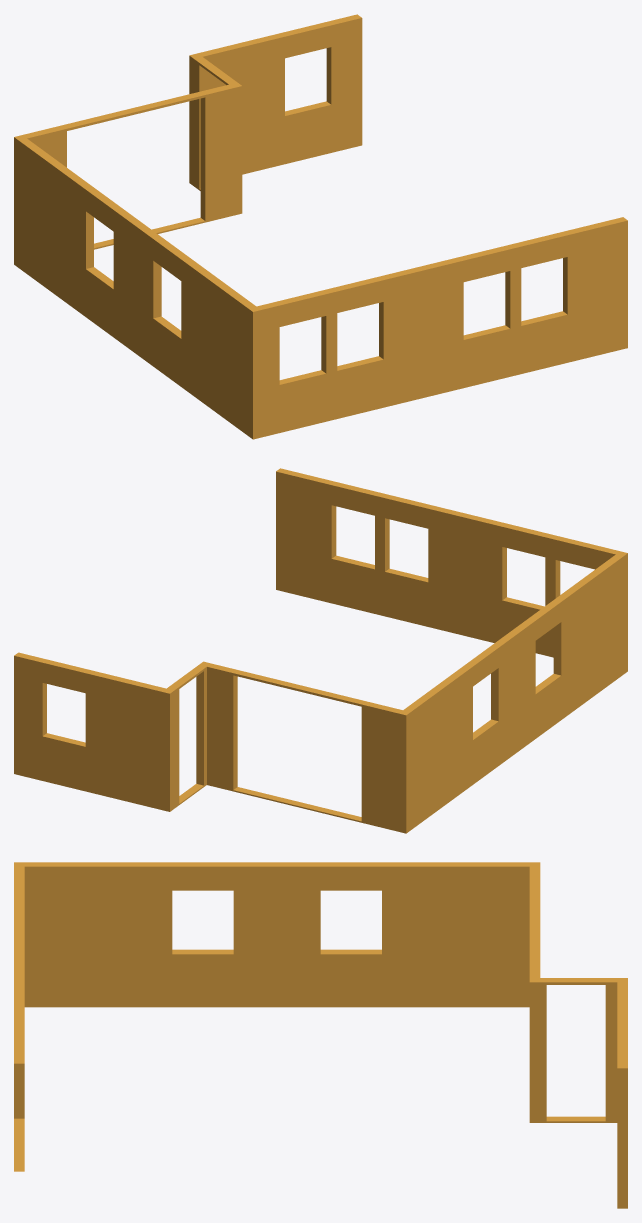
The model's file is Aussenwand.fbx.
3 views of the same model, one above another, from view 1: azimuth 30°, elevation 25°; view 2: azimuth 150°, elevation 25°; view 3: azimuth 270°, elevation 25° (orthographic). The views are drawn at different scales.
Parts seen in each view (by area): view 1: Daemmung; view 2: Daemmung; view 3: Daemmung.
Part boxes in pixels (<box>): Daemmung: <box>14,14,627,439</box>; Daemmung: <box>14,468,627,833</box>; Daemmung: <box>14,862,627,1208</box>.
Bounding box in the file's own units: 833 × 265 × 1050.
